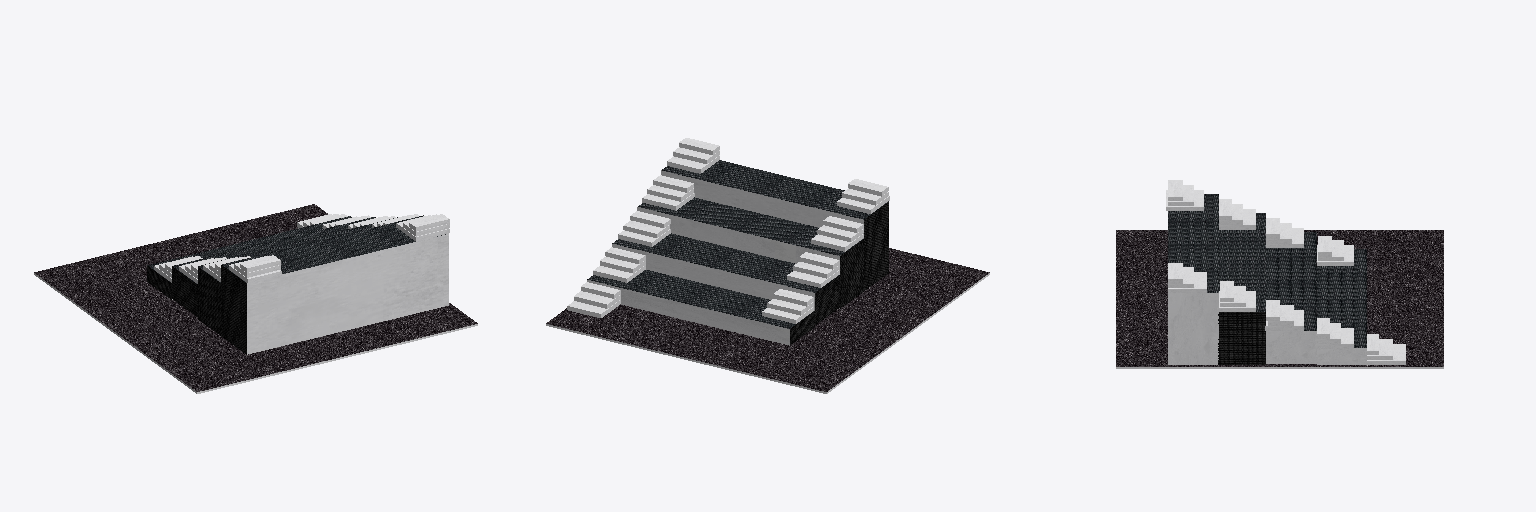
3 views of the same model, side by side, from view 1: azimuth 30°, elevation 25°; view 2: azimuth 150°, elevation 25°; view 3: azimuth 270°, elevation 25° (orthographic).
Visible parts, largest first — view 1: polySurface266; view 2: polySurface266; view 3: polySurface266.
Boxes of the visible parts, <box> form: polySurface266: <box>34,204,477,393</box>; polySurface266: <box>546,138,989,393</box>; polySurface266: <box>1116,180,1443,368</box>.
Size of the model in its own units: 23.53 by 7.07 by 23.73.
Materials: 16 (5 with a texture image).